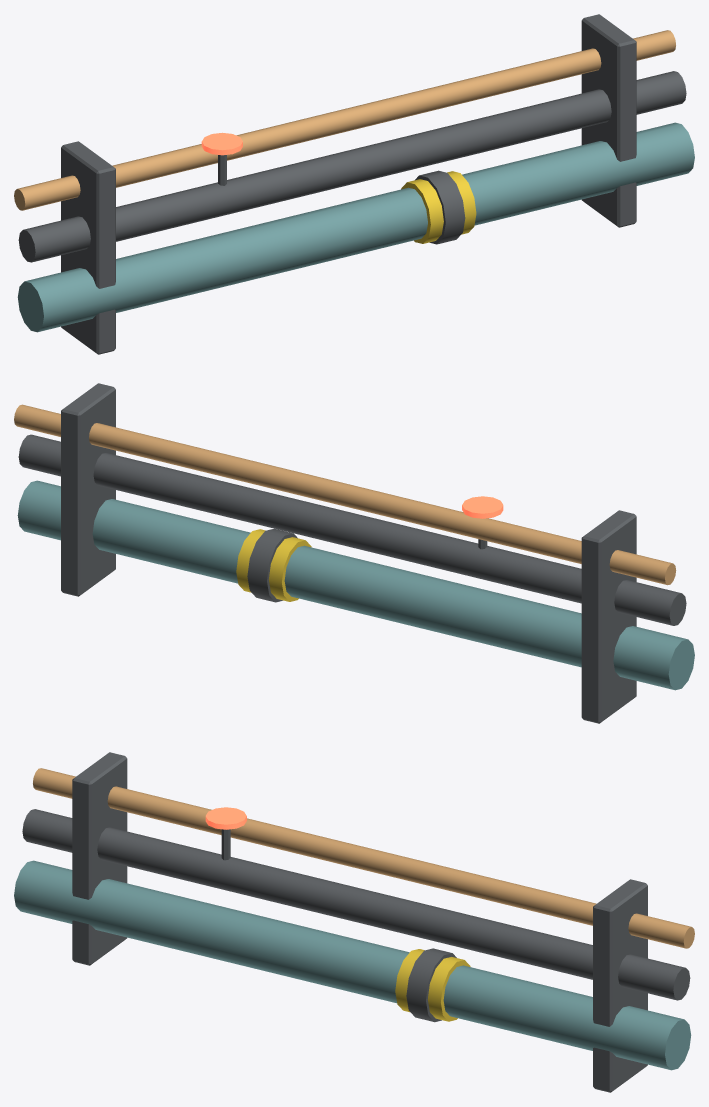
Rendered from pipe_run_low.glb.
3 views of the same model, one above another, from view 1: azimuth 30°, elevation 25°; view 2: azimuth 150°, elevation 25°; view 3: azimuth 330°, elevation 25° (orthographic).
Parts seen in each view (by area): view 1: pipe_run_low; view 2: pipe_run_low; view 3: pipe_run_low.
Part boxes in pixels (left/top/right/bottom): pipe_run_low: left=14, top=14, right=694, bottom=354; pipe_run_low: left=14, top=383, right=694, bottom=723; pipe_run_low: left=14, top=752, right=694, bottom=1092.
Bounding box in the file's own units: 2 × 0.54 × 0.235.
